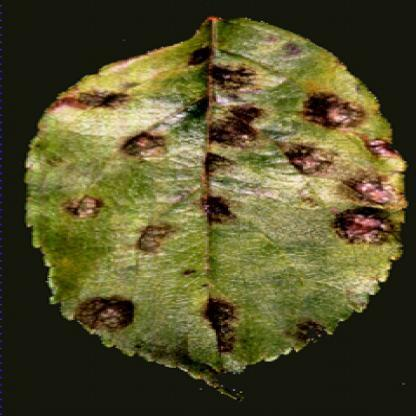Apple Scab Leaf: (1, 1, 414, 415)
